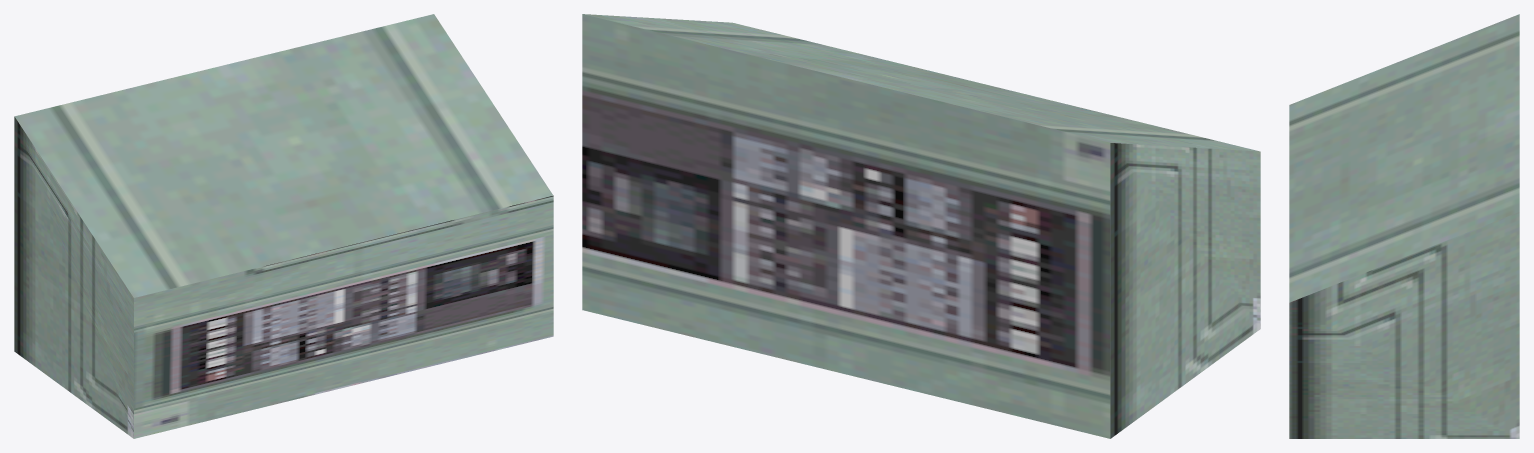
Rendered from engine  console.glb.
3 views of the same model, side by side, from view 1: azimuth 30°, elevation 25°; view 2: azimuth 150°, elevation 25°; view 3: azimuth 270°, elevation 25° (orthographic). The views are drawn at different scales.
Visible parts, largest first — view 1: Engine Console; view 2: Engine Console; view 3: Engine Console.
Boxes of the visible parts, <box> form: Engine Console: <box>14,14,553,438</box>; Engine Console: <box>582,14,1260,438</box>; Engine Console: <box>1289,14,1519,438</box>.
Size of the model in its own units: 2 by 1.07 by 0.9855.
1 material, 1 textured.
